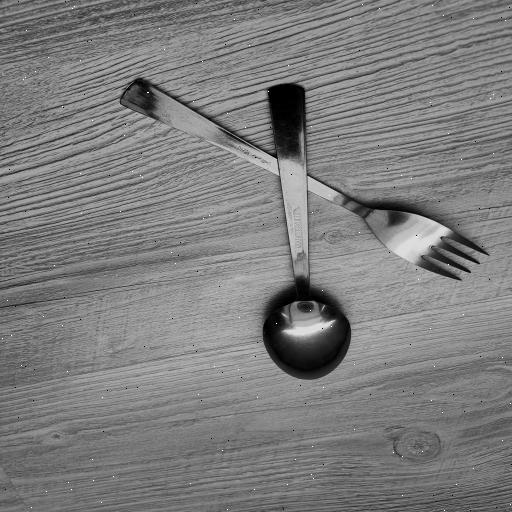fork: (119, 80, 496, 285)
spoon: (265, 83, 351, 379)
